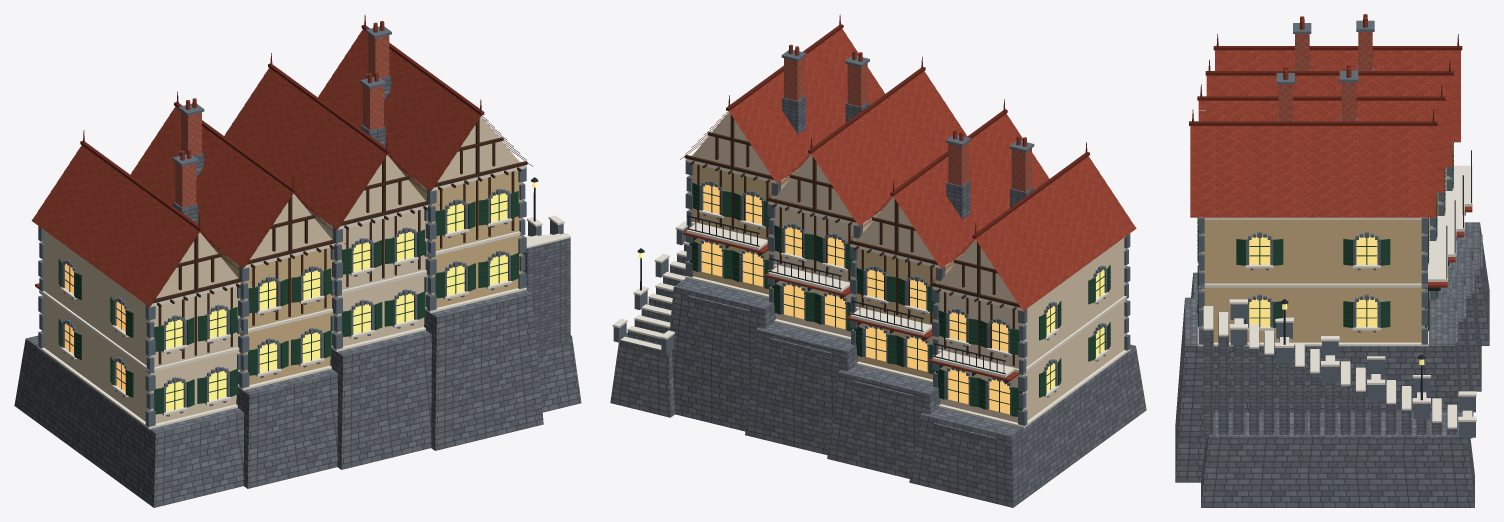
Rendered from fv_nb_08_doc_nha_bo_dao_duy_tu_lower_stair_shophouses.glb.
3 views of the same model, side by side, from view 1: azimuth 30°, elevation 25°; view 2: azimuth 150°, elevation 25°; view 3: azimuth 270°, elevation 25° (orthographic). The views are drawn at different scales.
Visible parts, largest first — view 1: Foundation_Skirt_Neg3p5m, Stepped_Normandy_Brittany_Roof, Shophouse_Stucco_Primary, Stone_Quoins_And_Arches, PineGreen_Louvered_Shutters, Shophouse_Stucco_Accent, Molded_Cornices_And_Sills, Warm_Night_Windows_20h00_Blend, Exposed_Timber_Trusses_And_Rafters, Roof_Ridges_Caps_And_Finials, Brick_Chimney_Stacks, Villa_Interior_Backing; view 2: Foundation_Skirt_Neg3p5m, Stepped_Normandy_Brittany_Roof, Shophouse_Stucco_Primary, Stone_Quoins_And_Arches, Molded_Cornices_And_Sills, PineGreen_Louvered_Shutters, Warm_Night_Windows_20h00_Blend, Exposed_Timber_Trusses_And_Rafters, Shophouse_Stucco_Accent, Brick_Chimney_Stacks, Roof_Ridges_Caps_And_Finials, Wrought_Iron_Balustrades_And_Lamps (+1 smaller); view 3: Foundation_Skirt_Neg3p5m, Stepped_Normandy_Brittany_Roof, Shophouse_Stucco_Accent, Molded_Cornices_And_Sills, Stone_Quoins_And_Arches, Roof_Ridges_Caps_And_Finials, PineGreen_Louvered_Shutters, Brick_Chimney_Stacks, Warm_Night_Windows_20h00_Blend, Wrought_Iron_Balustrades_And_Lamps.
Part boxes in pixels (x1=…): Foundation_Skirt_Neg3p5m: x1=14, y1=74, x2=581, y2=507; Stepped_Normandy_Brittany_Roof: x1=31, y1=21, x2=480, y2=306; Shophouse_Stucco_Primary: x1=43, y1=116, x2=519, y2=423; Stone_Quoins_And_Arches: x1=38, y1=26, x2=563, y2=426; PineGreen_Louvered_Shutters: x1=42, y1=191, x2=518, y2=414; Shophouse_Stucco_Accent: x1=212, y1=169, x2=521, y2=384; Molded_Cornices_And_Sills: x1=37, y1=158, x2=570, y2=429; Warm_Night_Windows_20h00_Blend: x1=65, y1=182, x2=537, y2=411; Exposed_Timber_Trusses_And_Rafters: x1=153, y1=119, x2=527, y2=364; Roof_Ridges_Caps_And_Finials: x1=80, y1=14, x2=532, y2=282; Brick_Chimney_Stacks: x1=175, y1=34, x2=389, y2=207; Villa_Interior_Backing: x1=66, y1=194, x2=506, y2=409; Foundation_Skirt_Neg3p5m: x1=610, y1=95, x2=1146, y2=507; Stepped_Normandy_Brittany_Roof: x1=682, y1=29, x2=1136, y2=381; Shophouse_Stucco_Primary: x1=692, y1=112, x2=1125, y2=422; Stone_Quoins_And_Arches: x1=613, y1=50, x2=1130, y2=425; Molded_Cornices_And_Sills: x1=612, y1=151, x2=1130, y2=427; PineGreen_Louvered_Shutters: x1=689, y1=182, x2=1110, y2=416; Warm_Night_Windows_20h00_Blend: x1=638, y1=184, x2=1104, y2=414; Exposed_Timber_Trusses_And_Rafters: x1=684, y1=114, x2=1020, y2=365; Shophouse_Stucco_Accent: x1=690, y1=163, x2=963, y2=379; Brick_Chimney_Stacks: x1=784, y1=57, x2=1031, y2=191; Roof_Ridges_Caps_And_Finials: x1=680, y1=14, x2=1089, y2=287; Wrought_Iron_Balustrades_And_Lamps: x1=637, y1=215, x2=1008, y2=384; Foundation_Skirt_Neg3p5m: x1=1175, y1=67, x2=1489, y2=507; Stepped_Normandy_Brittany_Roof: x1=1190, y1=14, x2=1472, y2=287; Shophouse_Stucco_Accent: x1=1201, y1=192, x2=1441, y2=342; Molded_Cornices_And_Sills: x1=1197, y1=142, x2=1476, y2=428; Stone_Quoins_And_Arches: x1=1198, y1=20, x2=1475, y2=437; Roof_Ridges_Caps_And_Finials: x1=1189, y1=34, x2=1462, y2=125; PineGreen_Louvered_Shutters: x1=1197, y1=142, x2=1453, y2=331; Brick_Chimney_Stacks: x1=1278, y1=32, x2=1372, y2=121; Warm_Night_Windows_20h00_Blend: x1=1249, y1=237, x2=1424, y2=365; Wrought_Iron_Balustrades_And_Lamps: x1=1281, y1=150, x2=1471, y2=400.
Bounding box in the file's own units: 26.22 × 21.1 × 16.06.
13 materials, 3 textured.
